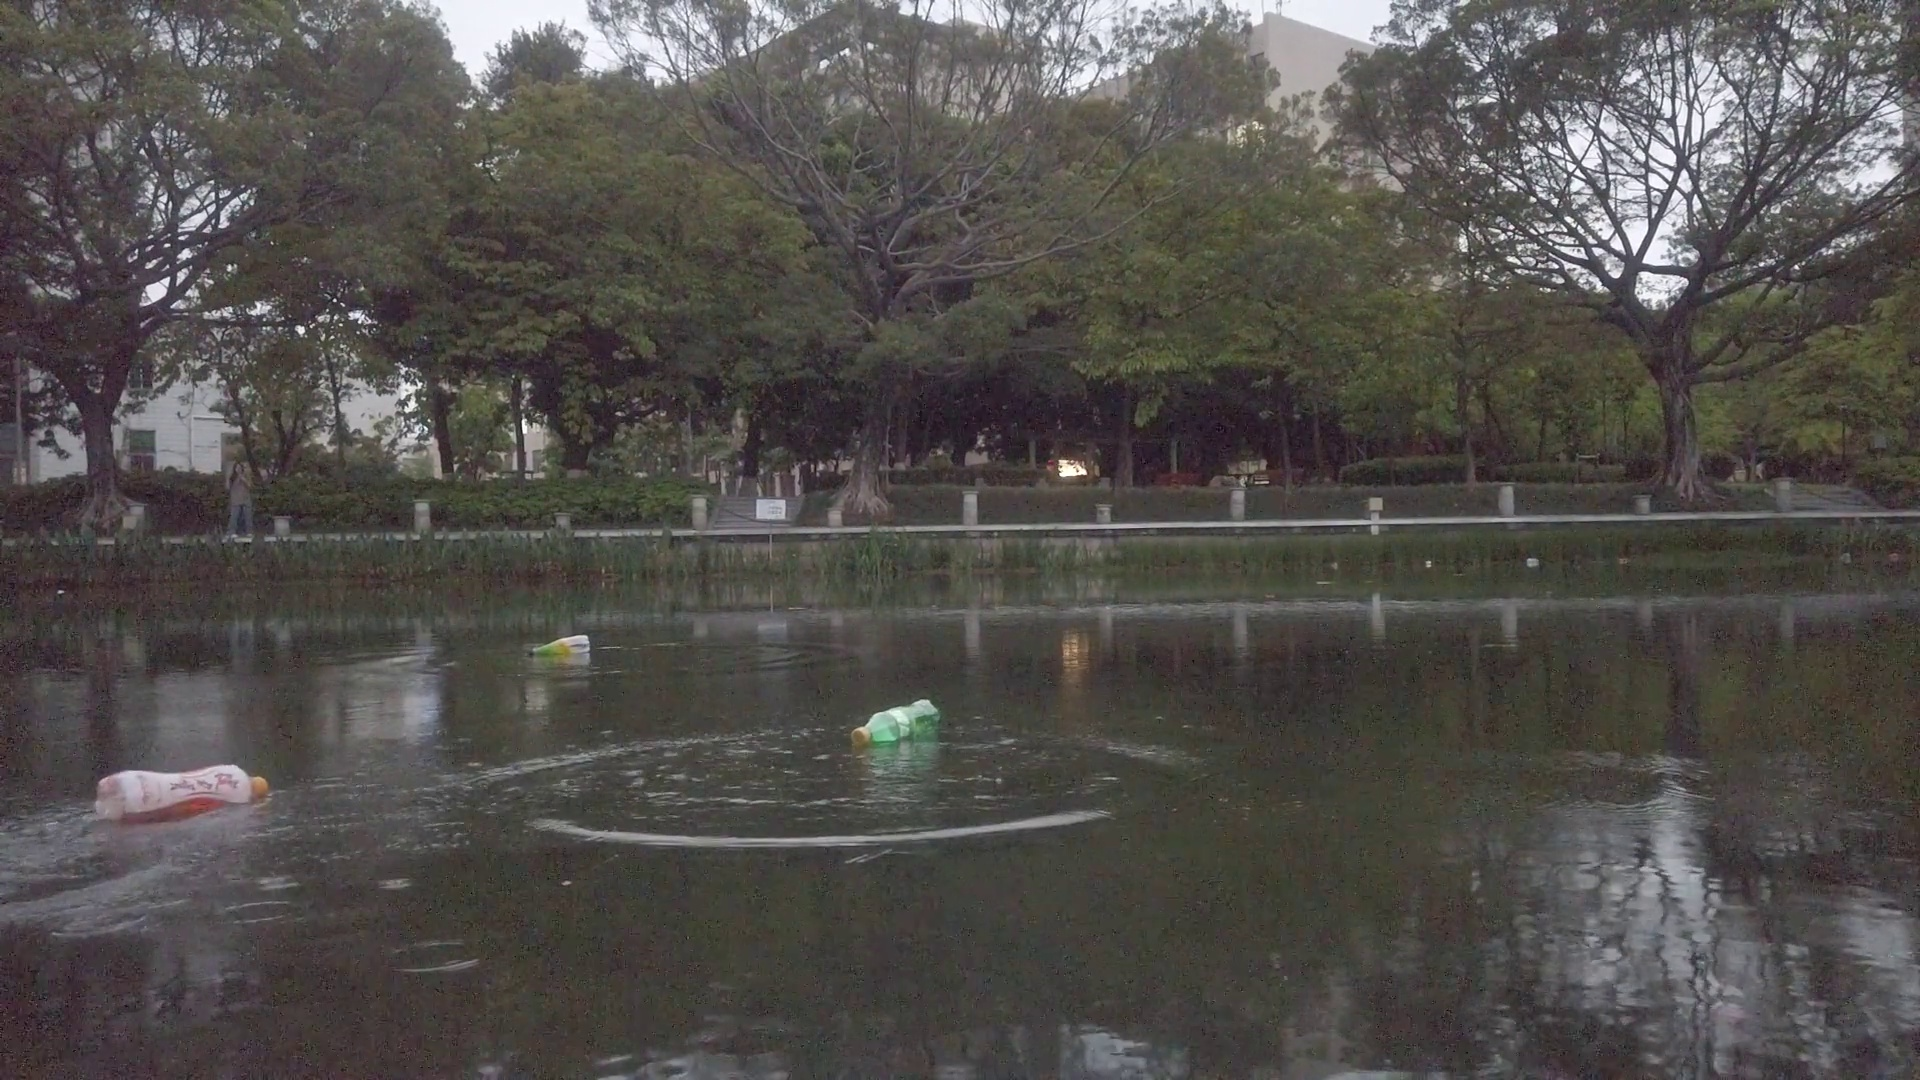bottle: (102, 765, 276, 819), (855, 698, 940, 746), (529, 633, 589, 659), (1837, 551, 1851, 564), (1617, 555, 1633, 567), (1891, 554, 1900, 566)
carton: (1523, 559, 1544, 571)
